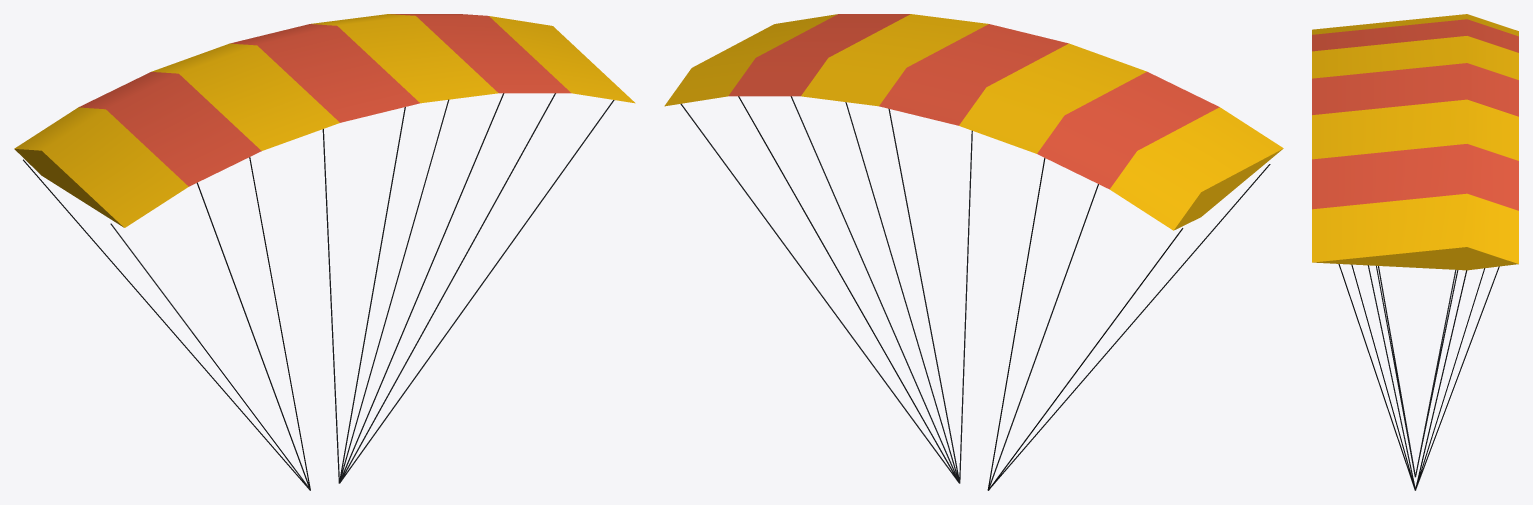
Rendered from parachute_canopy.glb.
The picture shows the model from 3 angles, left to right: view 1: azimuth 30°, elevation 25°; view 2: azimuth 150°, elevation 25°; view 3: azimuth 270°, elevation 25°; orthographic projection. The views are drawn at different scales.
Parts seen in each view (by area): view 1: parachute_canopy_Canopy; view 2: parachute_canopy_Canopy; view 3: parachute_canopy_Canopy.
Part boxes in pixels (x1,y1,x2,y2): parachute_canopy_Canopy: (14,14,635,490); parachute_canopy_Canopy: (664,14,1283,490); parachute_canopy_Canopy: (1312,14,1518,490).
Bounding box in the file's own units: 6.41 × 5.16 × 2.4.
